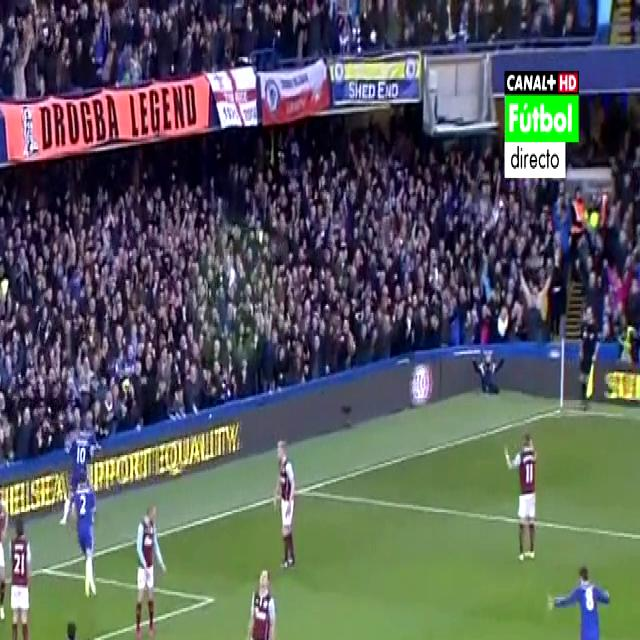referee: (571, 298, 601, 417), (310, 634, 364, 640)
soccer-player: (501, 413, 549, 569), (64, 472, 106, 616), (132, 485, 171, 640), (546, 562, 616, 640), (4, 514, 37, 640), (274, 436, 302, 567), (246, 546, 282, 640), (0, 473, 11, 627), (44, 626, 92, 640)
